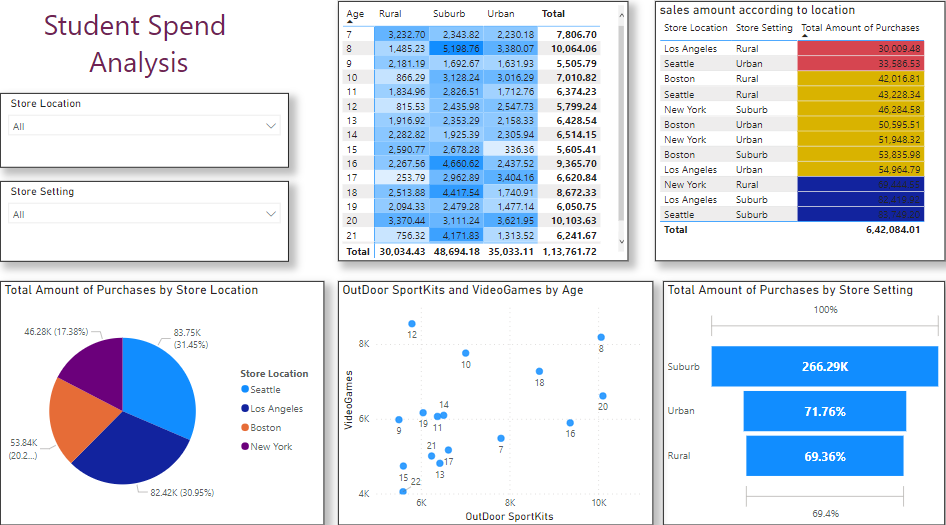

Layout of this report page (visuals, bound fields, positions):
{"tool":"powerbi","page":{"name":"Page 1","canvas":[1280,720],"ordinal":0},"visuals":[{"type":"tableEx","title":"sales amount according to location","fields":{"Values":["Student Survey.Store Location","Student Survey.Store Setting","Sum(Student Survey.Total Amount of Purchases)"]},"box":[884.4,14.6,384.5,344.8],"z":0},{"type":"pivotTable","fields":{"Rows":["Student Survey.Age"],"Values":["Sum(Student Survey.OutDoor SportKits)"],"Columns":["Student Survey.Store Setting"]},"box":[464.1,14.6,384.5,344.8],"z":1000},{"type":"funnel","fields":{"Category":["Student Survey.Store Setting"],"Y":["Sum(Student Survey.Total Amount of Purchases)"]},"box":[895,385.9,373.9,323.5],"z":2000},{"type":"pieChart","fields":{"Category":["Student Survey.Store Location","Student Survey.Store Setting"],"Y":["Sum(Student Survey.Total Amount of Purchases)"]},"box":[15.9,385.9,429.6,323.5],"z":3000},{"type":"scatterChart","fields":{"Category":["Student Survey.Age"],"X":["Sum(Student Survey.OutDoor SportKits)"],"Y":["Sum(Student Survey.VideoGames)"]},"box":[464.1,385.9,417.7,323.5],"z":4000},{"type":"slicer","title":"Stuet spend analysis","fields":{"Values":["Student Survey.Store Location"]},"box":[15.9,136.6,383.2,99.4],"z":5000},{"type":"textbox","box":[0,15.2,399.7,114.7],"z":6000},{"type":"slicer","fields":{"Values":["Student Survey.Store Setting"]},"box":[15.9,253.3,383.2,107.4],"z":7000}]}

Visuals, with their boxes in screenshot pixels (x1, y1, x2, y2), scaled from the page's 1280x720 canvas onto the 946x525 screenshot:
"sales amount according to location" tableEx: [left=654, top=11, right=938, bottom=262]
pivotTable - Student Survey.Age x Sum(Student Survey.OutDoor SportKits): [left=343, top=11, right=627, bottom=262]
funnel - Student Survey.Store Setting x Sum(Student Survey.Total Amount of Purchases): [left=661, top=281, right=938, bottom=517]
pieChart - Student Survey.Store Location x Student Survey.Store Setting: [left=12, top=281, right=329, bottom=517]
scatterChart - Student Survey.Age x Sum(Student Survey.OutDoor SportKits): [left=343, top=281, right=652, bottom=517]
"Stuet spend analysis" slicer: [left=12, top=100, right=295, bottom=172]
textbox: [left=0, top=11, right=295, bottom=95]
slicer - Student Survey.Store Setting: [left=12, top=185, right=295, bottom=263]
